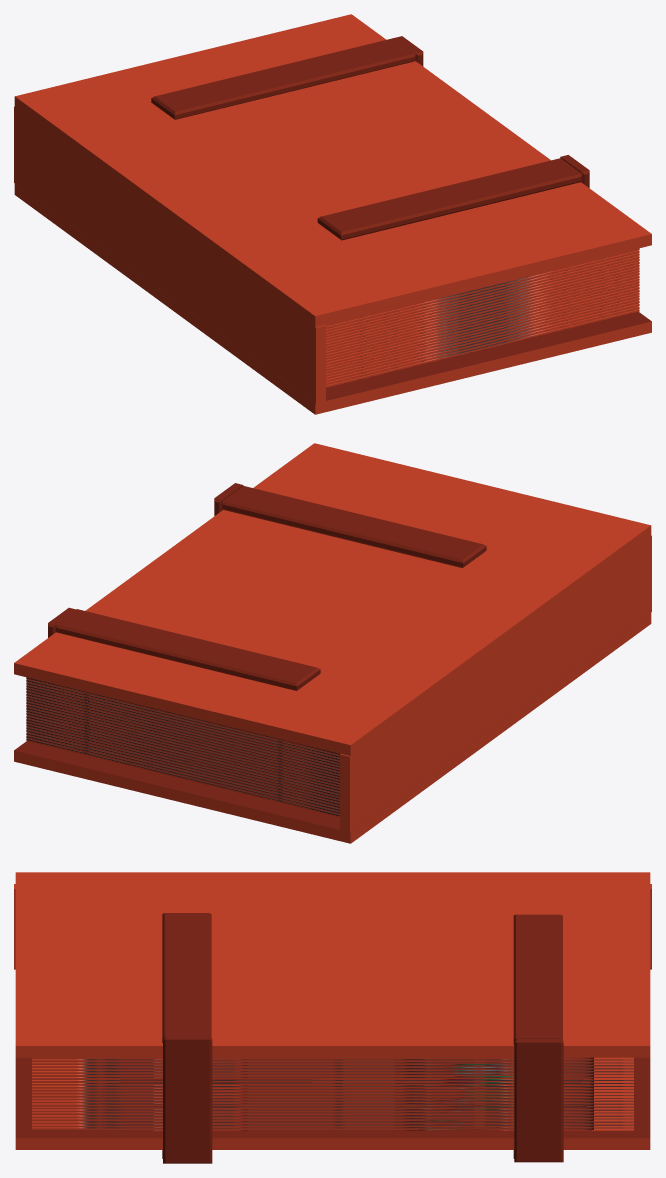
The model's file is Book.fbx.
3 views of the same model, one above another, from view 1: azimuth 30°, elevation 25°; view 2: azimuth 150°, elevation 25°; view 3: azimuth 270°, elevation 25° (orthographic). The views are drawn at different scales.
Parts seen in each view (by area): view 1: Back, Spine, Cover, Back_Strap_Top, Back_Strap_Bottom, Paper16, Paper22, Paper24, Paper5, Paper12, Paper8, Paper6 (+16 smaller); view 2: Back, Spine, Cover, Back_Strap_Top, Back_Strap_Bottom, Paper22, Paper16, Paper24, Paper5, Paper12, Paper8, Paper17 (+16 smaller); view 3: Back, Cover, Strap_Side_Top, Back_Strap_Bottom, Strap_Side_Bottom, Back_Strap_Top, Paper1, Paper15, Paper16, Paper17, Paper18, Paper19 (+19 smaller).
Part boxes in pixels (<box>): Back: <box>14,14,651,327</box>; Spine: <box>14,106,325,403</box>; Cover: <box>14,184,651,414</box>; Back_Strap_Top: <box>317,158,582,240</box>; Back_Strap_Bottom: <box>151,38,415,119</box>; Paper16: <box>326,286,639,365</box>; Paper22: <box>326,303,639,382</box>; Paper24: <box>326,297,639,376</box>; Paper5: <box>326,253,639,331</box>; Paper12: <box>326,275,639,354</box>; Paper8: <box>326,264,639,342</box>; Paper6: <box>326,256,639,334</box>; Back: <box>14,443,651,756</box>; Spine: <box>340,535,651,832</box>; Cover: <box>14,613,651,843</box>; Back_Strap_Top: <box>222,486,486,567</box>; Back_Strap_Bottom: <box>56,609,320,690</box>; Paper22: <box>26,732,339,811</box>; Paper16: <box>26,715,339,794</box>; Paper24: <box>26,727,339,805</box>; Paper5: <box>26,682,339,761</box>; Paper12: <box>26,704,339,783</box>; Paper8: <box>26,693,339,772</box>; Paper17: <box>26,718,339,797</box>; Back: <box>15,872,650,1057</box>; Cover: <box>15,1057,650,1149</box>; Strap_Side_Top: <box>163,1035,212,1163</box>; Back_Strap_Bottom: <box>513,914,562,1044</box>; Strap_Side_Bottom: <box>514,1038,563,1162</box>; Back_Strap_Top: <box>162,913,211,1042</box>; Paper1: <box>32,1059,633,1062</box>; Paper15: <box>32,1100,633,1103</box>; Paper16: <box>32,1103,633,1106</box>; Paper17: <box>32,1106,633,1109</box>; Paper18: <box>32,1109,633,1112</box>; Paper19: <box>32,1112,633,1115</box>.
Size of the model in its own units: 1.02 by 0.3376 by 1.55.
